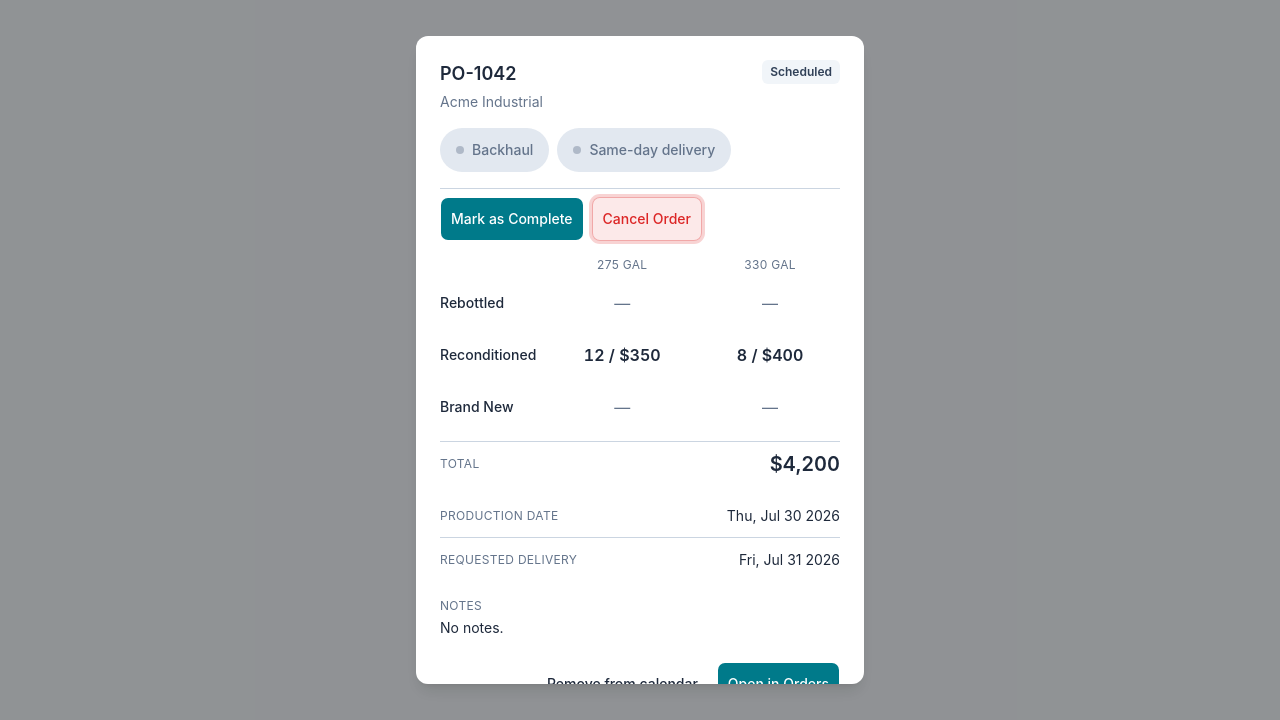
Test: ProductionCardDialog — status block › hands focus back to the control that opened the confirm
Click the button "Cancel Order" at (647, 219), box [592,197,702,241]
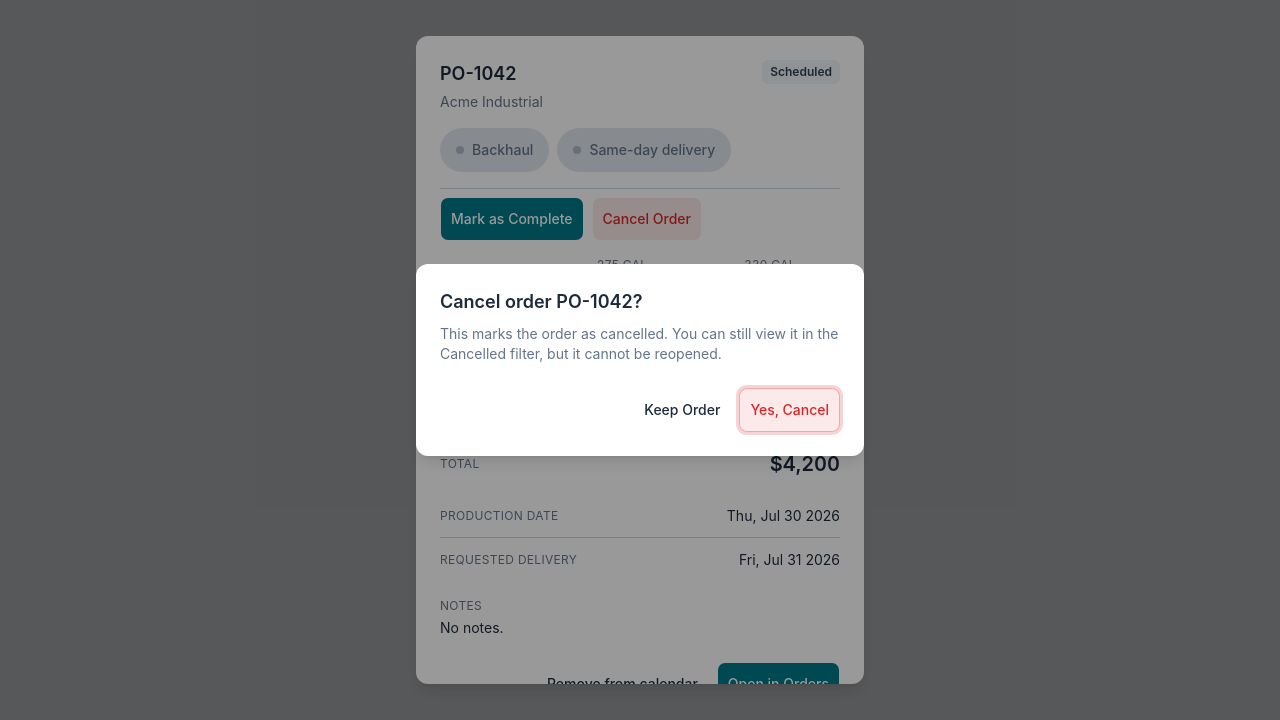
Press Escape
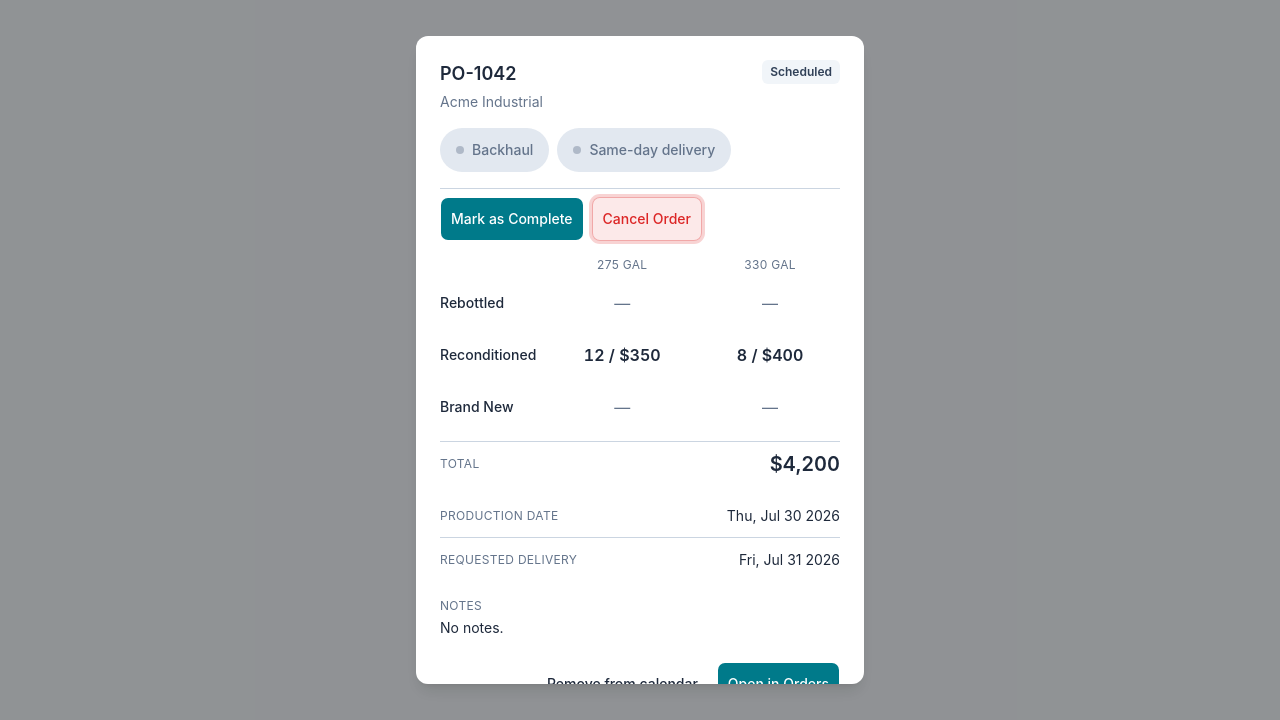
expect the button "Yes, Cancel" is gone: met
